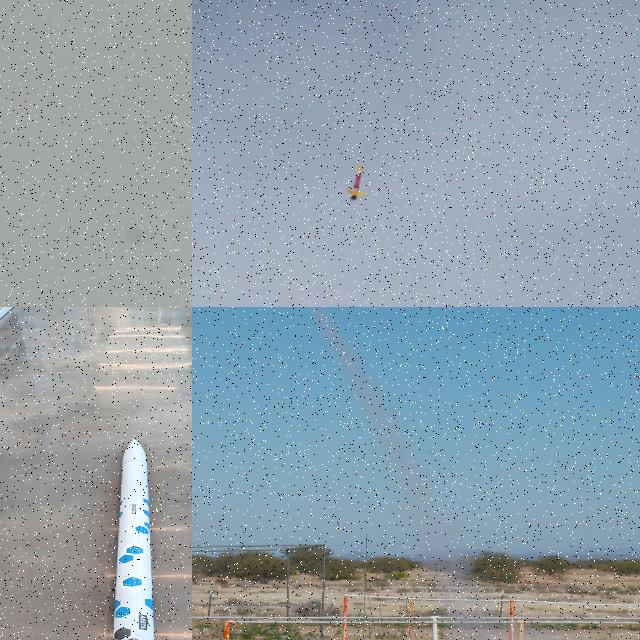Rocket: (112, 438, 155, 640), (344, 163, 368, 203)
